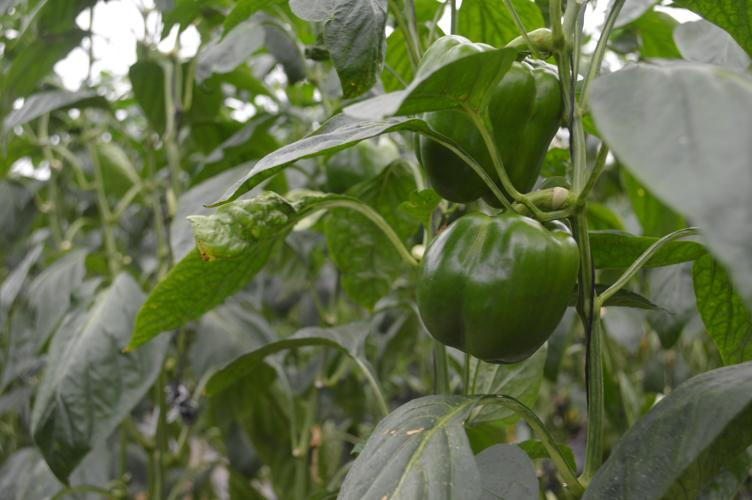BellPepper: (407, 211, 582, 378), (398, 30, 556, 204)
